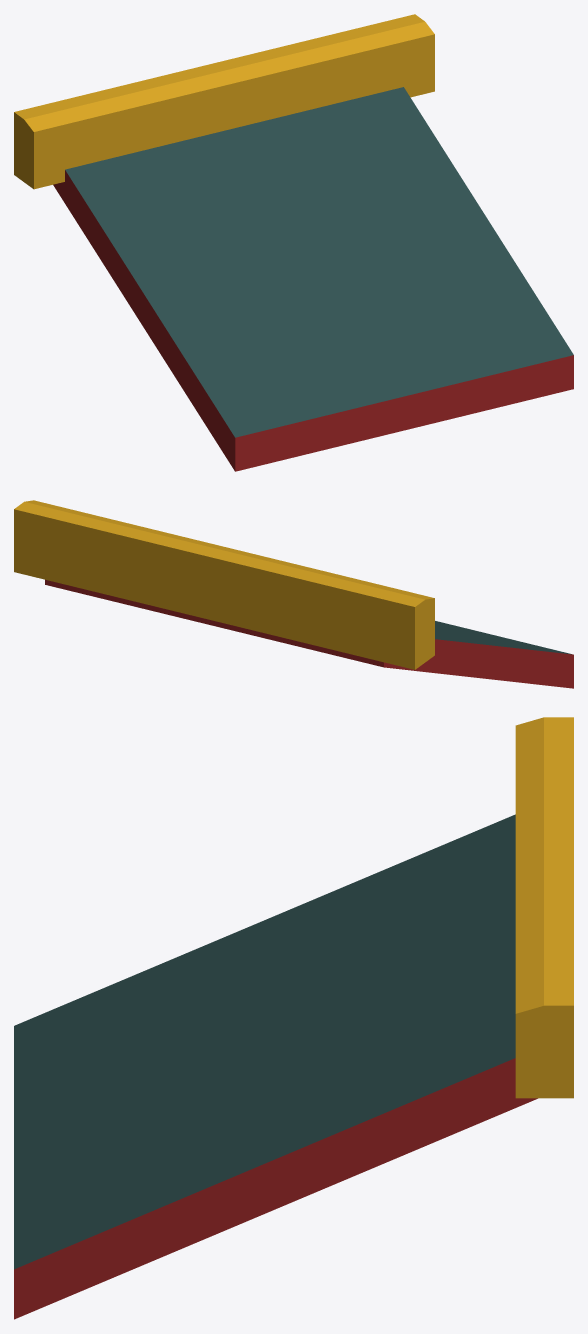
The model's file is Asian_Prop_Building_Modular_Roof_Edge_Simple_Overhang_01.FBX.
3 views of the same model, one above another, from view 1: azimuth 30°, elevation 25°; view 2: azimuth 150°, elevation 25°; view 3: azimuth 270°, elevation 25° (orthographic). The views are drawn at different scales.
Parts seen in each view (by area): view 1: Asian_Prop_Building_Modular_Roof_Edge_Simple_Overhang_01; view 2: Asian_Prop_Building_Modular_Roof_Edge_Simple_Overhang_01; view 3: Asian_Prop_Building_Modular_Roof_Edge_Simple_Overhang_01.
Part boxes in pixels (x1,y1,x2,y2): Asian_Prop_Building_Modular_Roof_Edge_Simple_Overhang_01: (14, 14, 573, 471); Asian_Prop_Building_Modular_Roof_Edge_Simple_Overhang_01: (14, 500, 573, 688); Asian_Prop_Building_Modular_Roof_Edge_Simple_Overhang_01: (14, 717, 573, 1319).
Bounding box in the file's own units: 4775 × 2596 × 3918.
